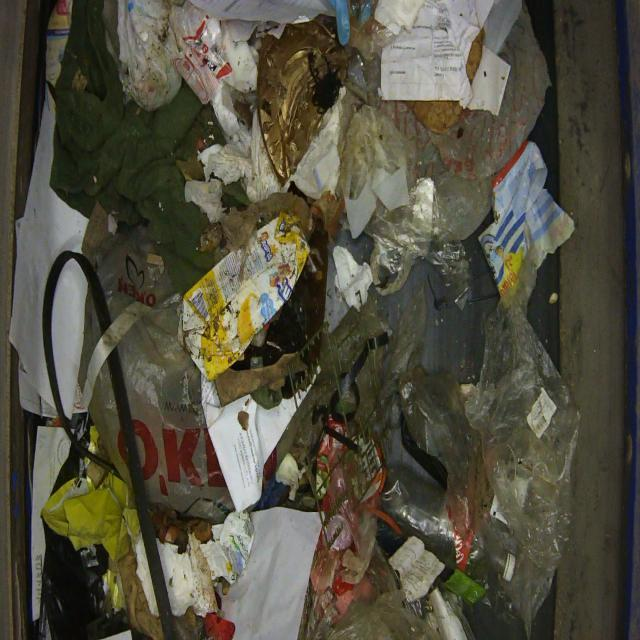other-trash: (16, 0, 579, 638)
